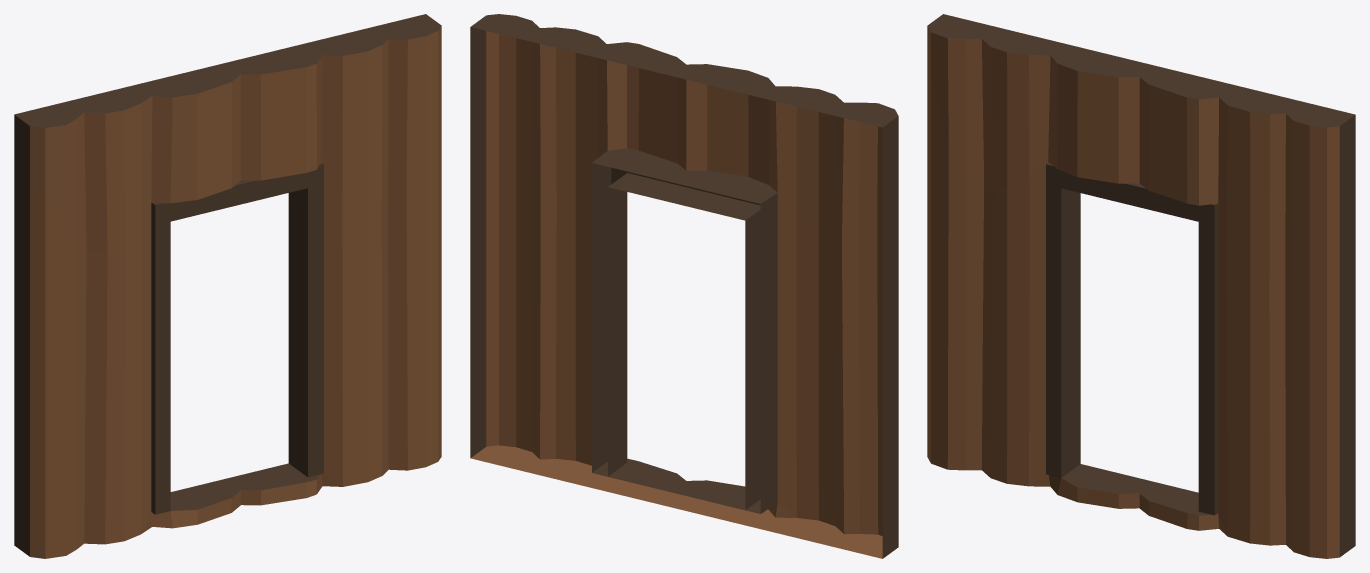
Rendered from wall-wood-door-vertical-3x3m.fbx.
3 views of the same model, side by side, from view 1: azimuth 30°, elevation 25°; view 2: azimuth 150°, elevation 25°; view 3: azimuth 330°, elevation 25° (orthographic).
Parts seen in each view (by area): view 1: wall-wood-door-vertical-3x3m; view 2: wall-wood-door-vertical-3x3m; view 3: wall-wood-door-vertical-3x3m.
Part boxes in pixels (x1,y1,x2,y2): wall-wood-door-vertical-3x3m: [14, 14, 441, 558]; wall-wood-door-vertical-3x3m: [470, 14, 898, 558]; wall-wood-door-vertical-3x3m: [927, 14, 1355, 558].
Size of the model in its own units: 3 by 3 by 0.3123.
